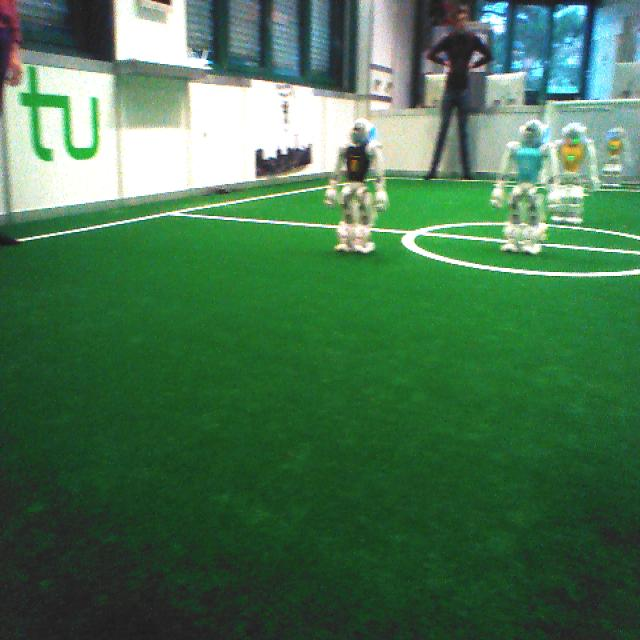goalpost: (545, 101, 554, 140)
